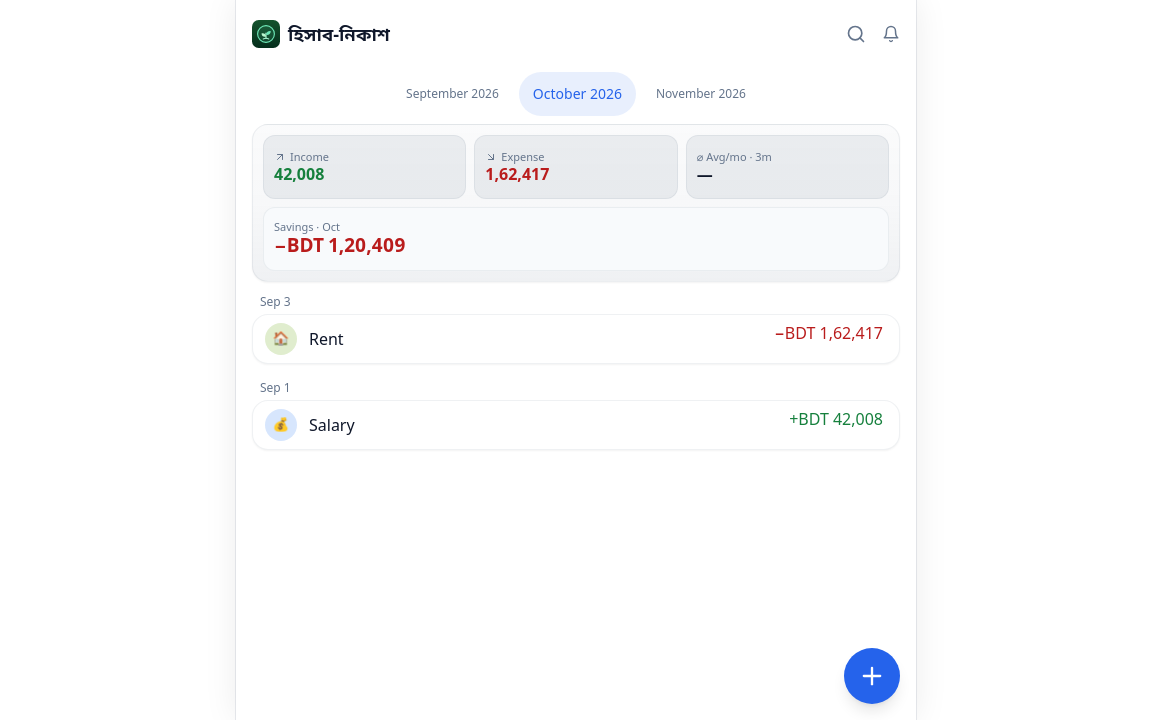
Scenario: HomeTab › shows totals (lakh-style), grouped rows and opens edit on tap
Expected: the text "1,62,417" is shown, [485,164,549,184]
Expected: the text "42,008" is shown, [274,164,324,184]
Click the button "🏠 Rent −BDT 1,62,417": (281, 339) [253,315,899,363]
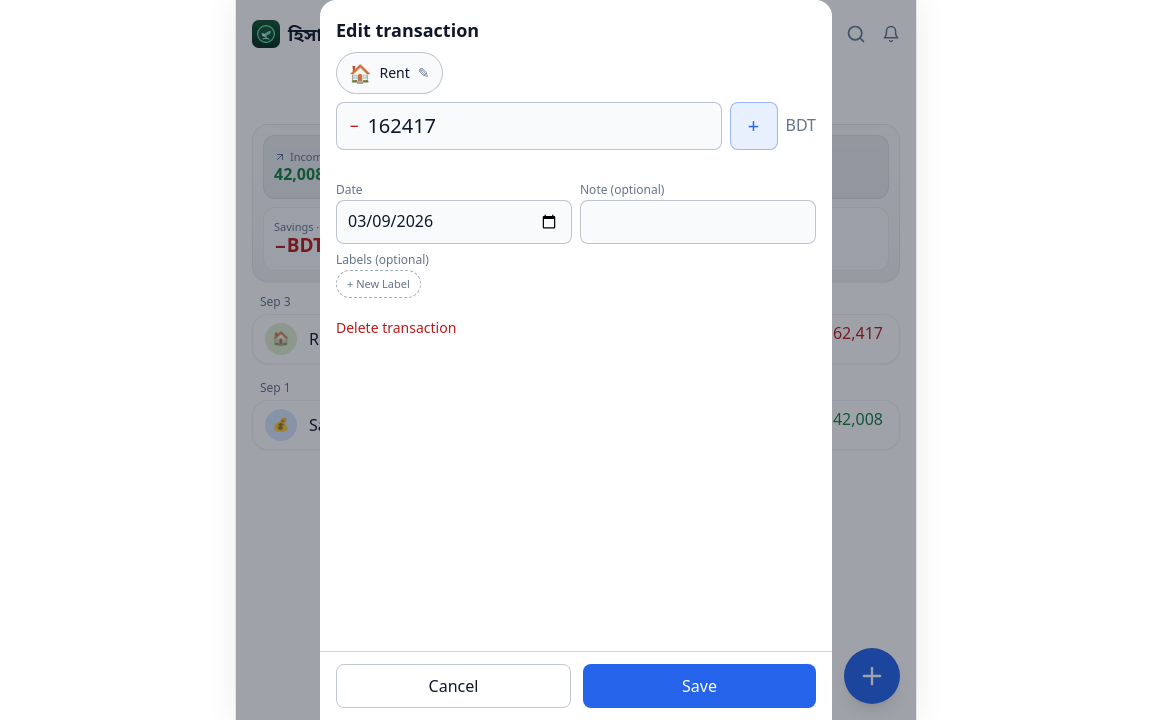
Result: the dialog "Edit transaction" is shown at [320,0,832,719]
